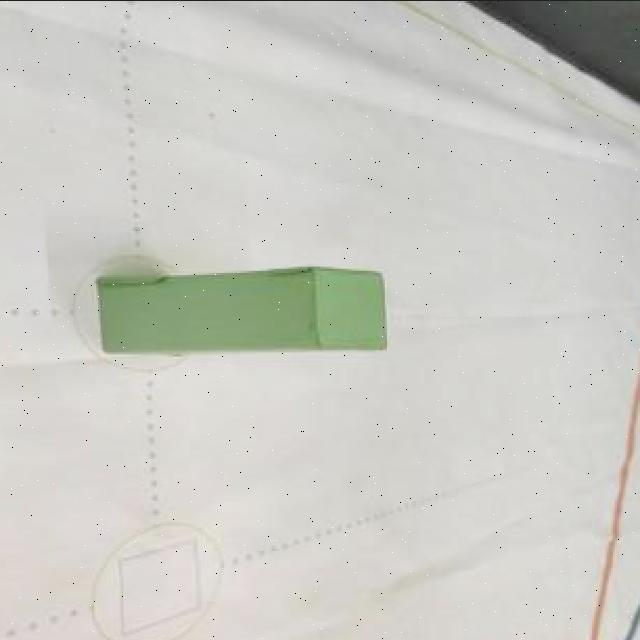greenbox: (97, 266, 390, 358)
